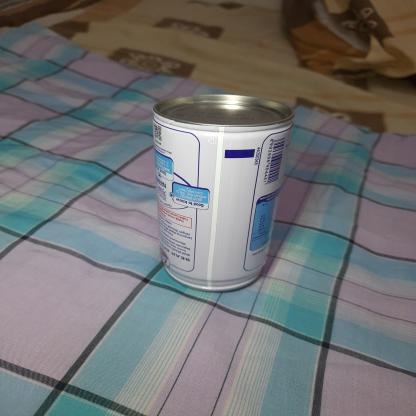mouse: (144, 90, 297, 292)
